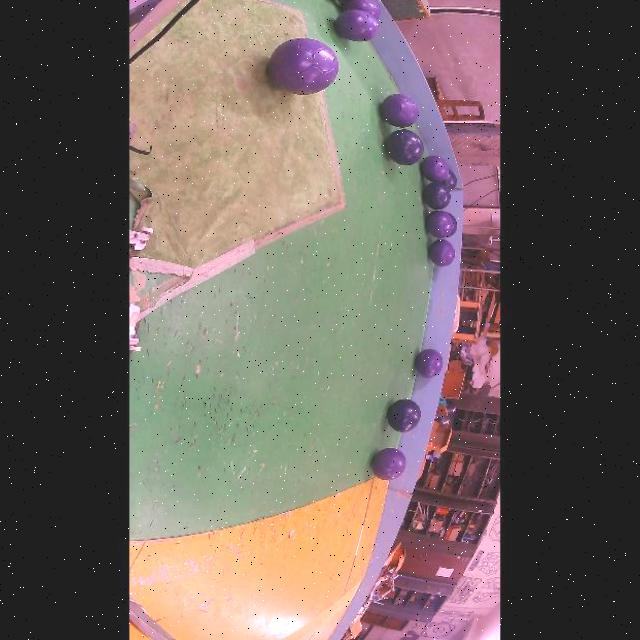B: (384, 129, 423, 165), (386, 399, 419, 432), (422, 182, 449, 210), (441, 170, 455, 191)
P: (267, 37, 337, 95), (333, 10, 377, 41), (379, 94, 418, 128), (370, 448, 405, 480), (424, 210, 453, 239), (414, 348, 442, 378), (419, 155, 448, 182), (340, 0, 379, 19), (428, 239, 454, 267)
